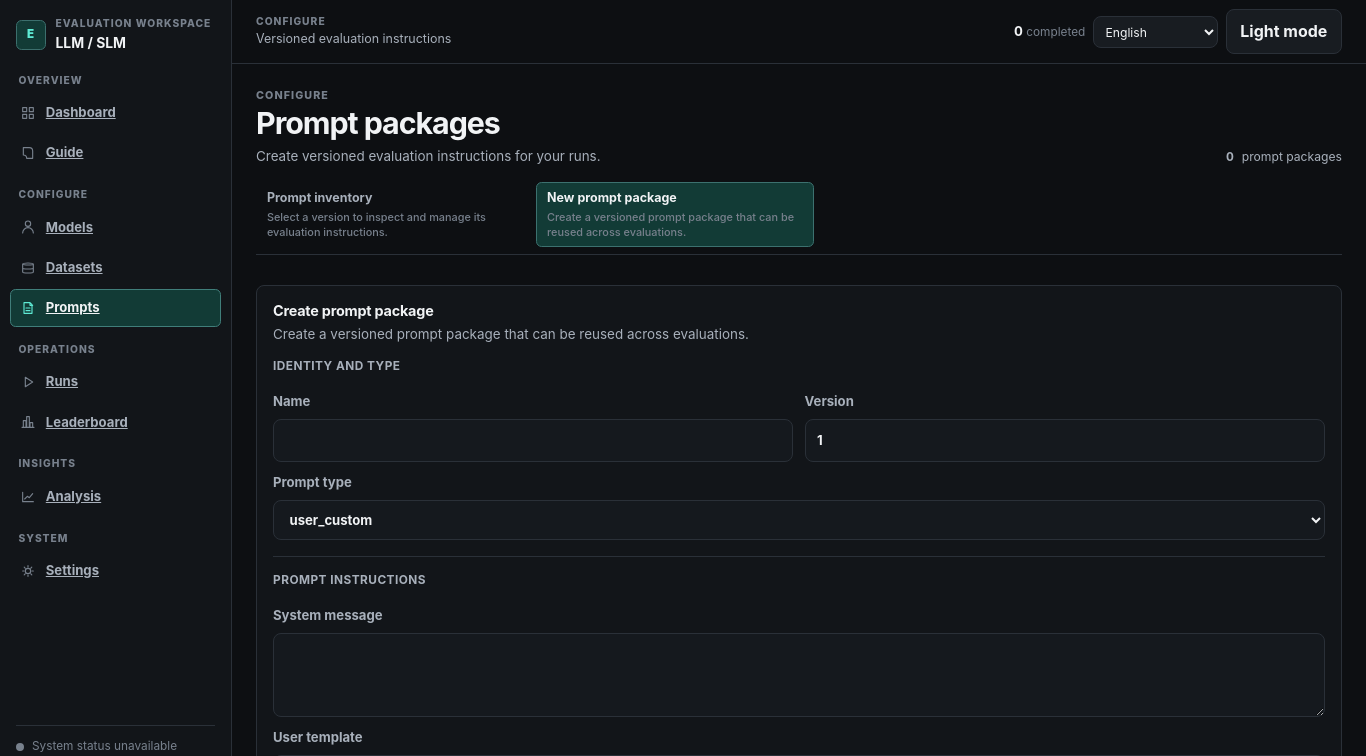
Test case: PromptPackagesPage › creates through the workspace API, returns to inventory, and refreshes it
The image size is (1366, 756).
Expected: the heading "Prompt packages" is shown, [256, 105, 500, 141]
In the field labelled "Name": (533, 440) [273, 419, 793, 462], type "New package"
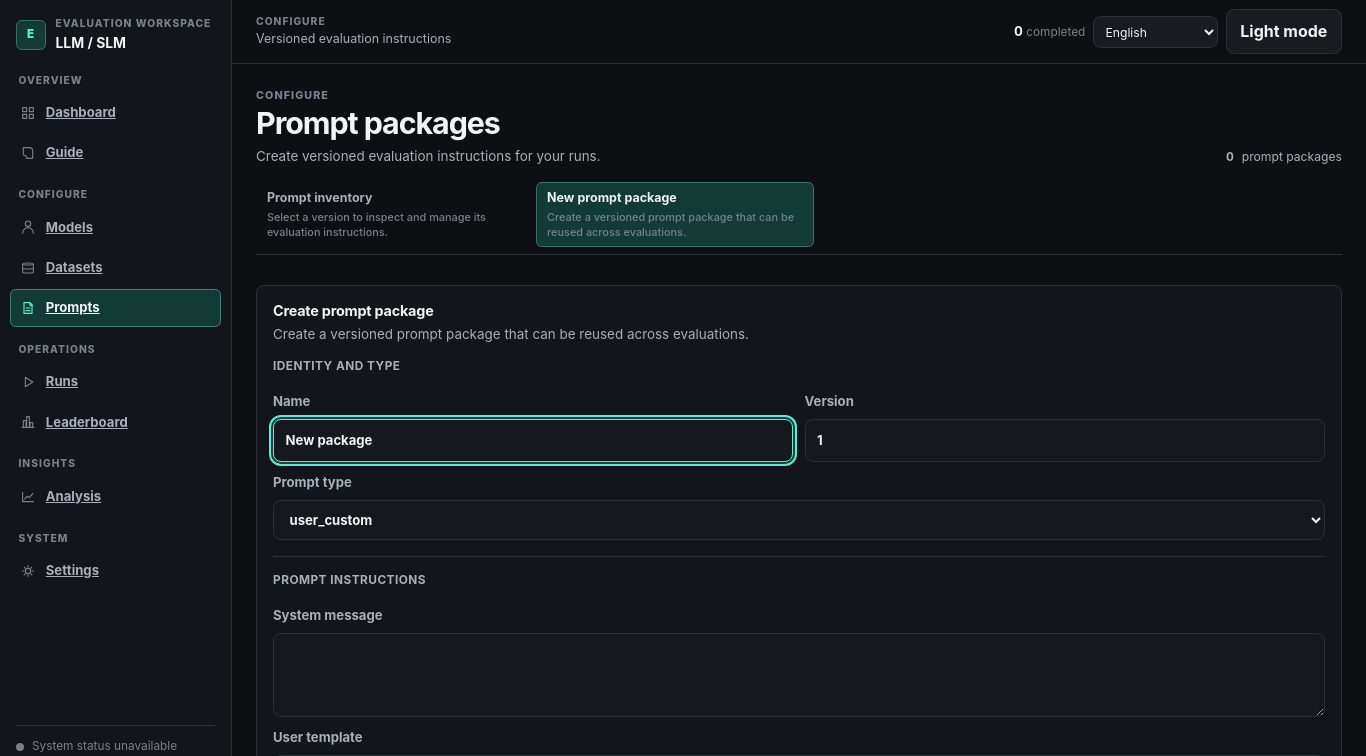
Replace the text in the field labelled "Version" with "2": (1065, 440) [805, 419, 1325, 462]
(page scrolled)
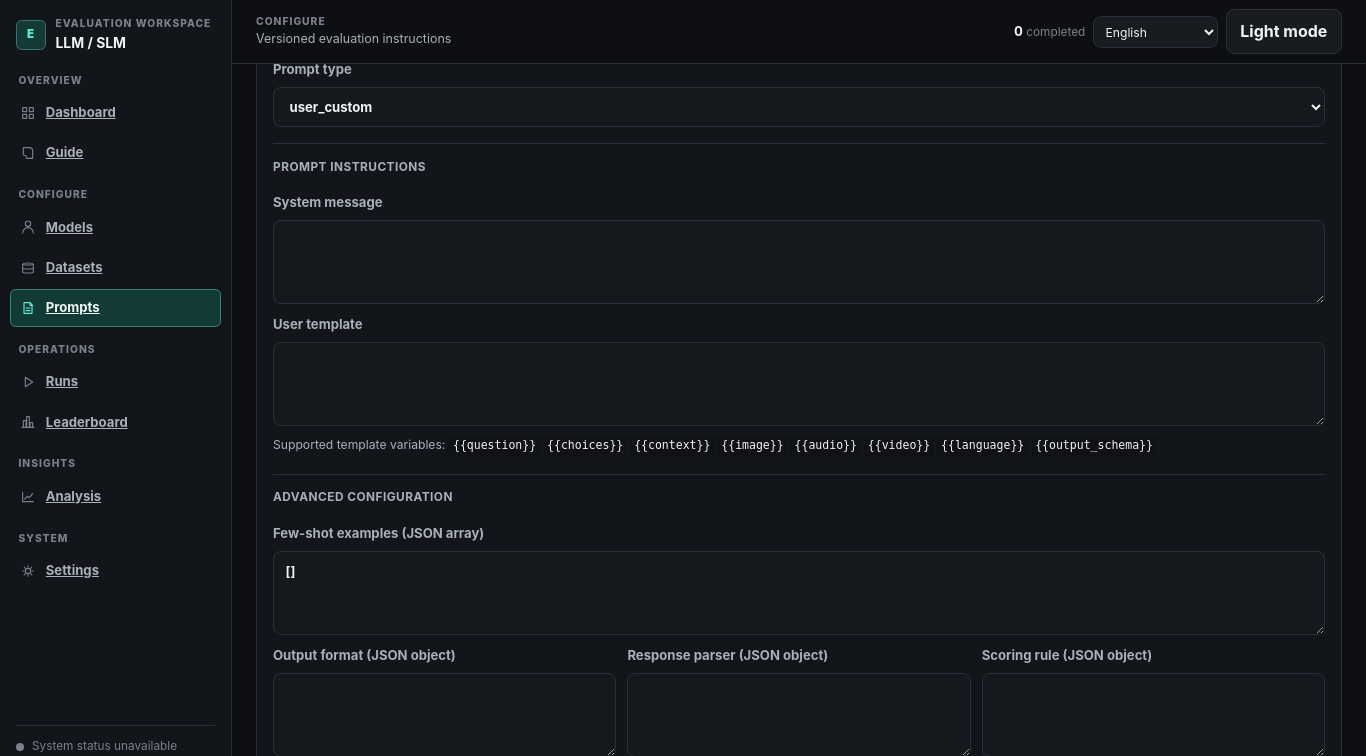
Click the text box labelled "User template": (799, 384) [273, 342, 1325, 426]
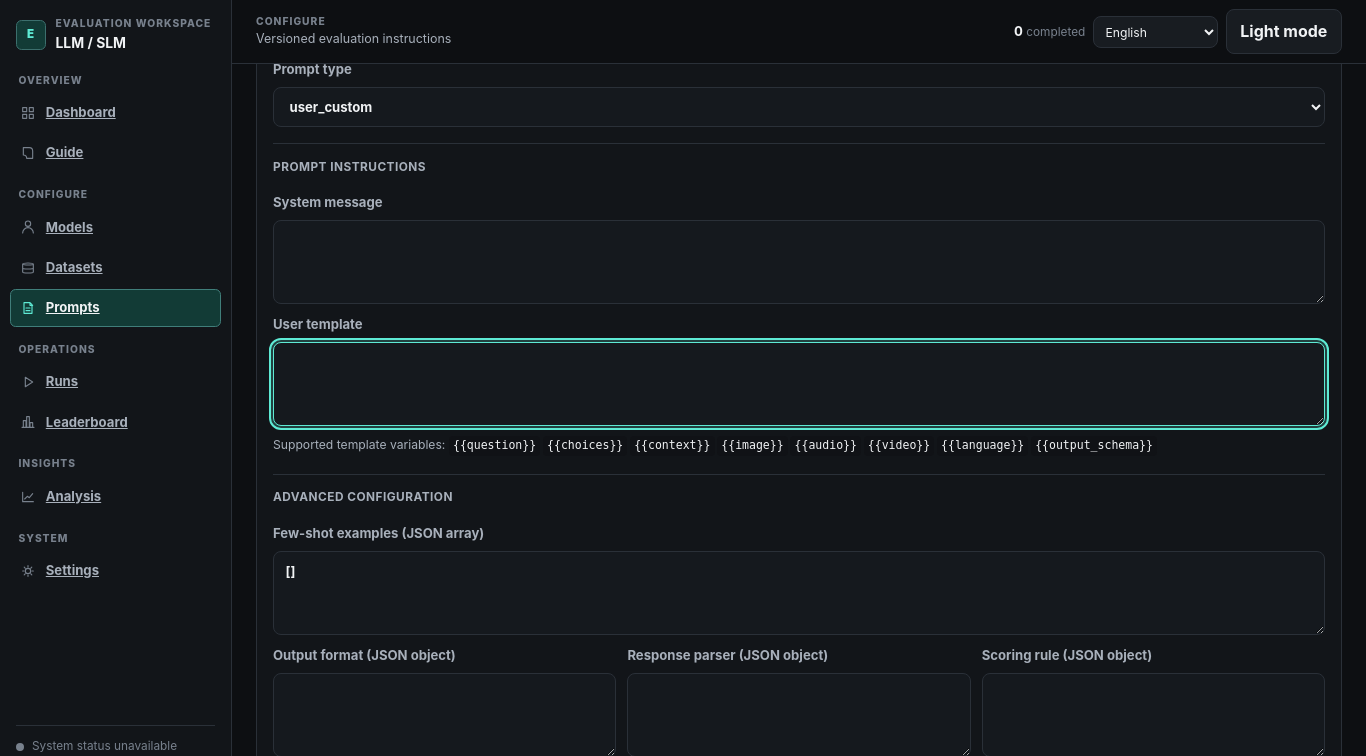
Type keys "{{question}}"
(page scrolled)
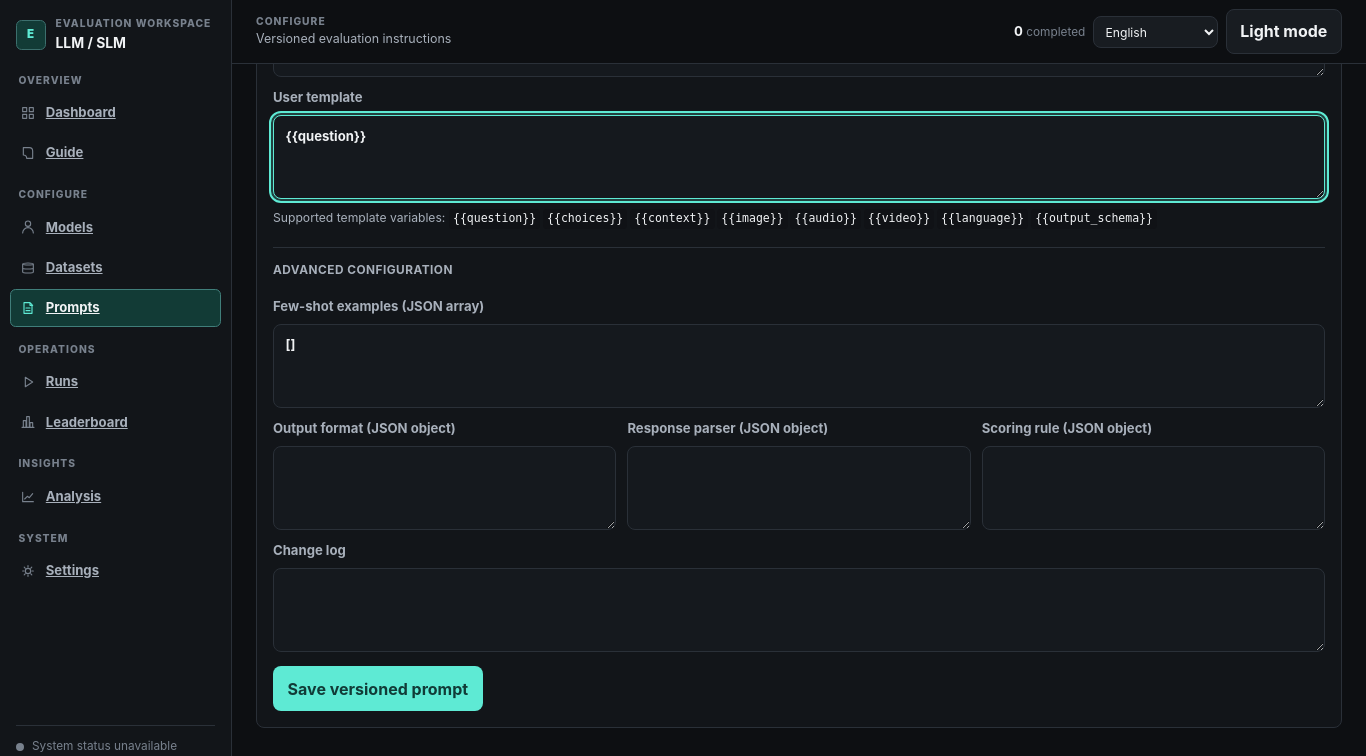
Click the button "Save versioned prompt": (378, 689) [273, 666, 483, 712]
(page scrolled)
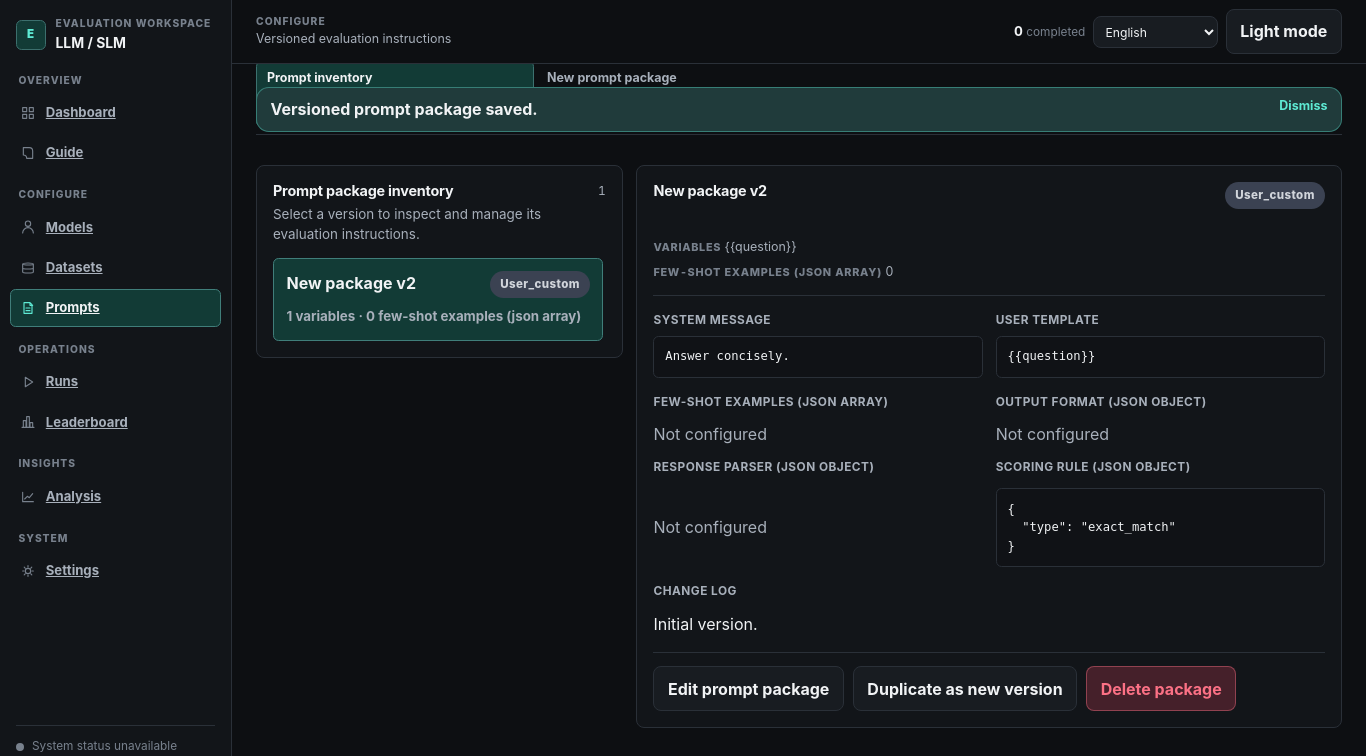
Expected: the button "New package v2" is shown, [273, 258, 604, 341]
